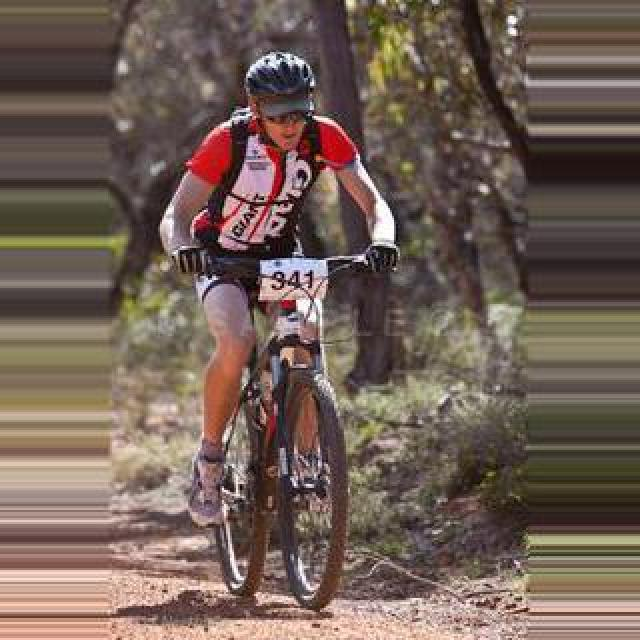MC-Bike: (164, 38, 386, 570)
Person: (189, 239, 353, 619)
